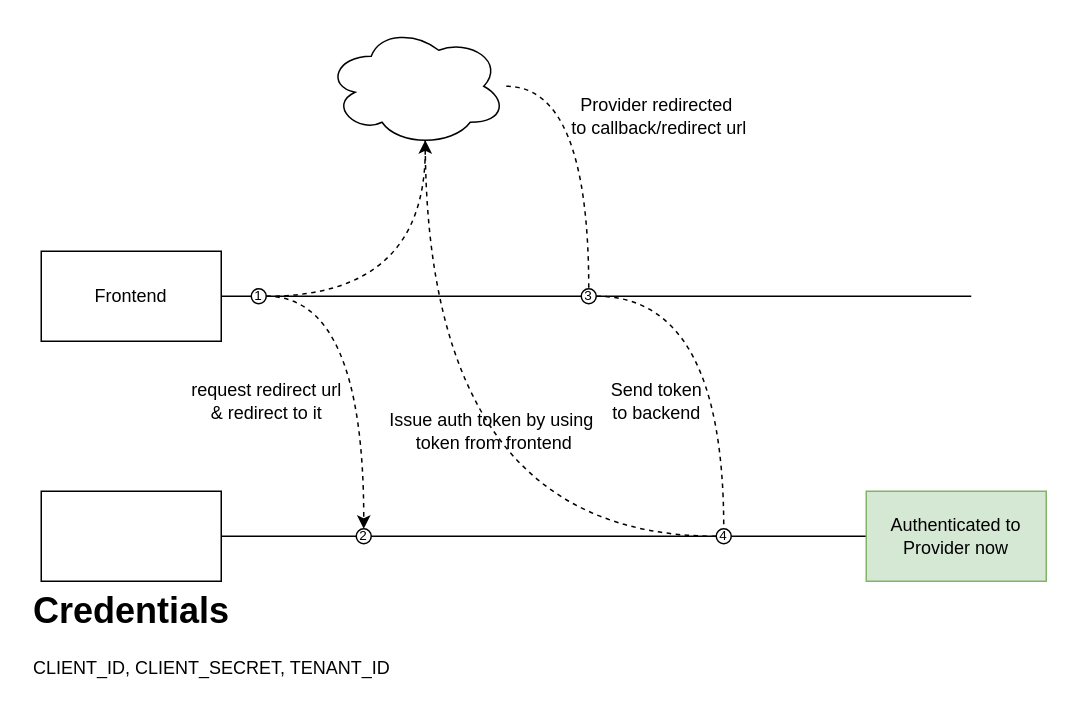
The diagram is 1073 pixels wide and 713 high, and some of its shapes have lost their labels. The centre of each missing label's shape, as x and y in pixels:
"Backend" goes at (130,535).
"Provider" goes at (415,85).
